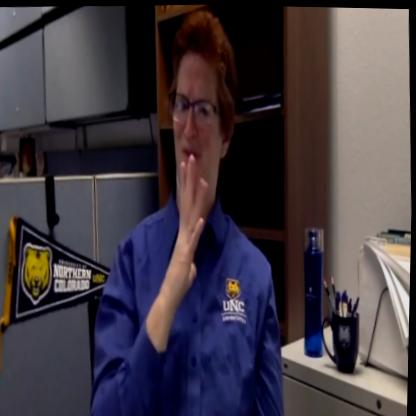Talk: (156, 3, 250, 347)
